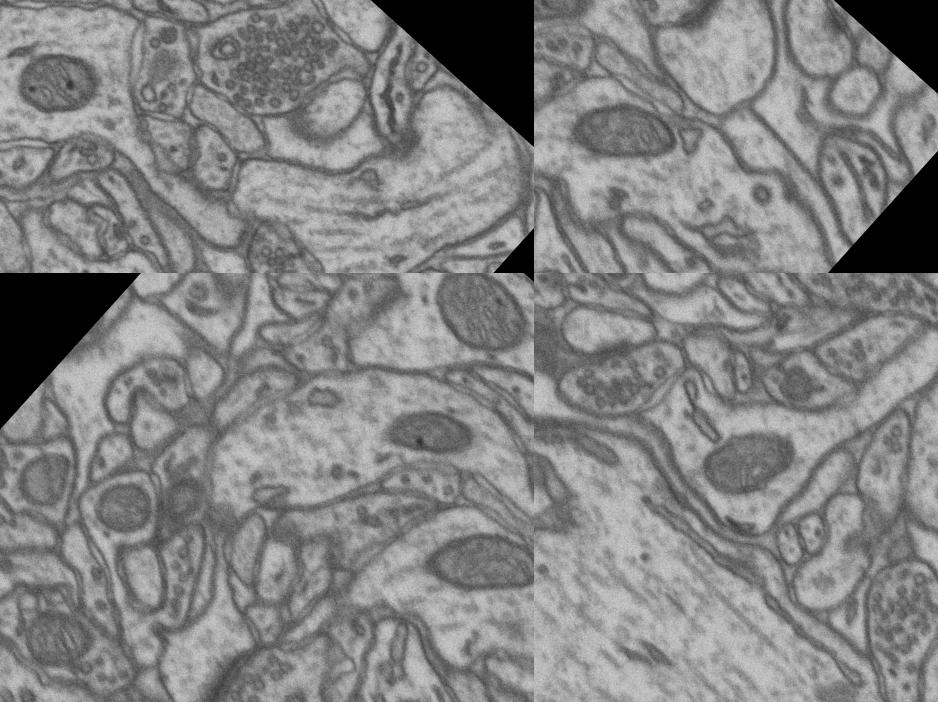mitochondria: (401, 482, 534, 641), (549, 59, 693, 202), (672, 399, 806, 533), (0, 18, 123, 145), (411, 273, 534, 385), (370, 373, 486, 489), (5, 588, 108, 690), (0, 429, 94, 528), (138, 452, 230, 544), (756, 340, 846, 431), (80, 462, 169, 551), (534, 0, 616, 64), (534, 300, 570, 380), (574, 273, 668, 301), (518, 160, 534, 216)
